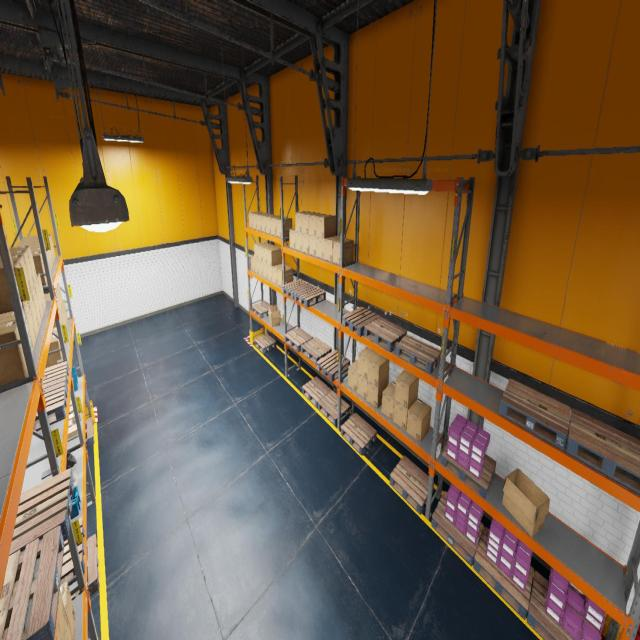box: (502, 468, 550, 537), (0, 319, 27, 386), (0, 260, 28, 314), (0, 250, 35, 292), (0, 309, 33, 351), (0, 255, 31, 297), (406, 398, 432, 443), (10, 246, 38, 284), (15, 242, 52, 269), (394, 370, 418, 409), (17, 240, 53, 265), (20, 236, 54, 262), (60, 582, 75, 640), (22, 234, 56, 258), (393, 398, 417, 432), (368, 352, 390, 388), (367, 379, 388, 409), (358, 347, 377, 380), (46, 334, 64, 368), (24, 300, 36, 348), (382, 381, 396, 421), (30, 246, 50, 272), (333, 238, 353, 264), (32, 251, 47, 285), (44, 292, 62, 320), (45, 298, 61, 328), (57, 588, 66, 640), (44, 288, 62, 314), (316, 215, 336, 238), (29, 292, 39, 337), (324, 236, 340, 262), (32, 286, 42, 326), (309, 213, 326, 236), (302, 212, 319, 234), (36, 273, 46, 310), (295, 211, 312, 232), (35, 280, 44, 318), (348, 359, 358, 392), (277, 266, 293, 286), (266, 247, 282, 266), (276, 218, 292, 237), (270, 217, 286, 236), (272, 264, 287, 284), (357, 373, 367, 400), (262, 245, 276, 264), (258, 243, 272, 262), (268, 305, 280, 327), (266, 215, 279, 234), (257, 213, 271, 230), (252, 212, 266, 229), (254, 242, 267, 260), (261, 214, 274, 232), (248, 212, 262, 228), (65, 614, 73, 640), (316, 237, 324, 259), (57, 283, 63, 309), (309, 235, 316, 256), (69, 412, 81, 424), (62, 300, 68, 324), (68, 424, 78, 438), (69, 402, 83, 412), (295, 231, 302, 251), (302, 233, 308, 254), (290, 228, 296, 249), (56, 622, 62, 640), (61, 320, 65, 345), (63, 304, 67, 329), (267, 264, 272, 282), (258, 260, 263, 276), (254, 258, 259, 274), (250, 256, 255, 272), (263, 262, 267, 278), (62, 309, 65, 324), (31, 248, 41, 252), (52, 327, 57, 335), (69, 419, 73, 427), (61, 315, 64, 325), (70, 400, 72, 407)
pallets: (0, 525, 64, 639), (566, 408, 640, 494), (9, 469, 74, 559), (473, 526, 534, 619), (498, 379, 570, 449), (527, 571, 599, 639), (431, 491, 483, 566), (441, 446, 496, 498), (389, 455, 434, 514), (71, 534, 99, 600), (395, 334, 441, 374), (34, 381, 68, 431), (60, 518, 85, 586), (341, 413, 376, 455), (364, 317, 407, 351), (342, 306, 380, 336), (318, 391, 349, 426), (317, 350, 350, 382), (302, 376, 331, 408), (301, 337, 331, 365), (42, 361, 69, 391), (284, 327, 313, 352), (294, 286, 325, 308), (282, 280, 312, 299), (254, 334, 276, 353), (251, 301, 272, 318), (86, 416, 94, 446)
